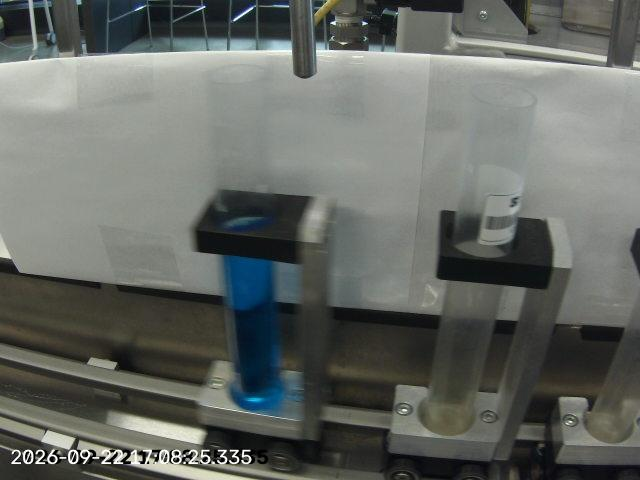vial: (422, 80, 539, 436), (201, 62, 287, 410)
